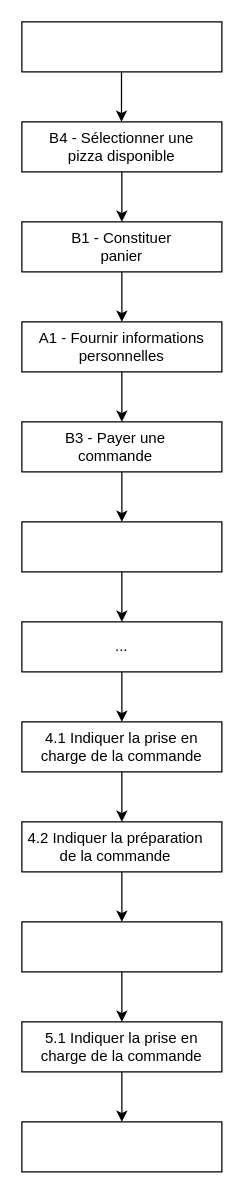
Some shapes in this 244 by 1194 pixel diagram are drawn without their labels. The centre of each missing label's shape, as x and y in pixels:
1.1 Consulter catalogue: the point at 121,46
4.3 Indiquer "pizza prête": the point at 121,946
5.2 Indiquer la livraison de la commande: the point at 121,1146
B2 - Obtenir récapitulatif: the point at 121,546
